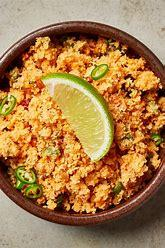Pol Sambol: (4, 17, 162, 232)
